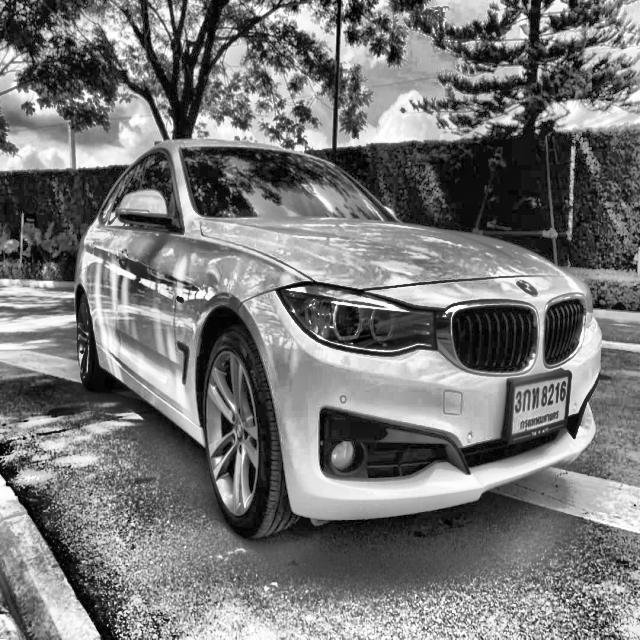license-plate: (500, 364, 572, 448)
